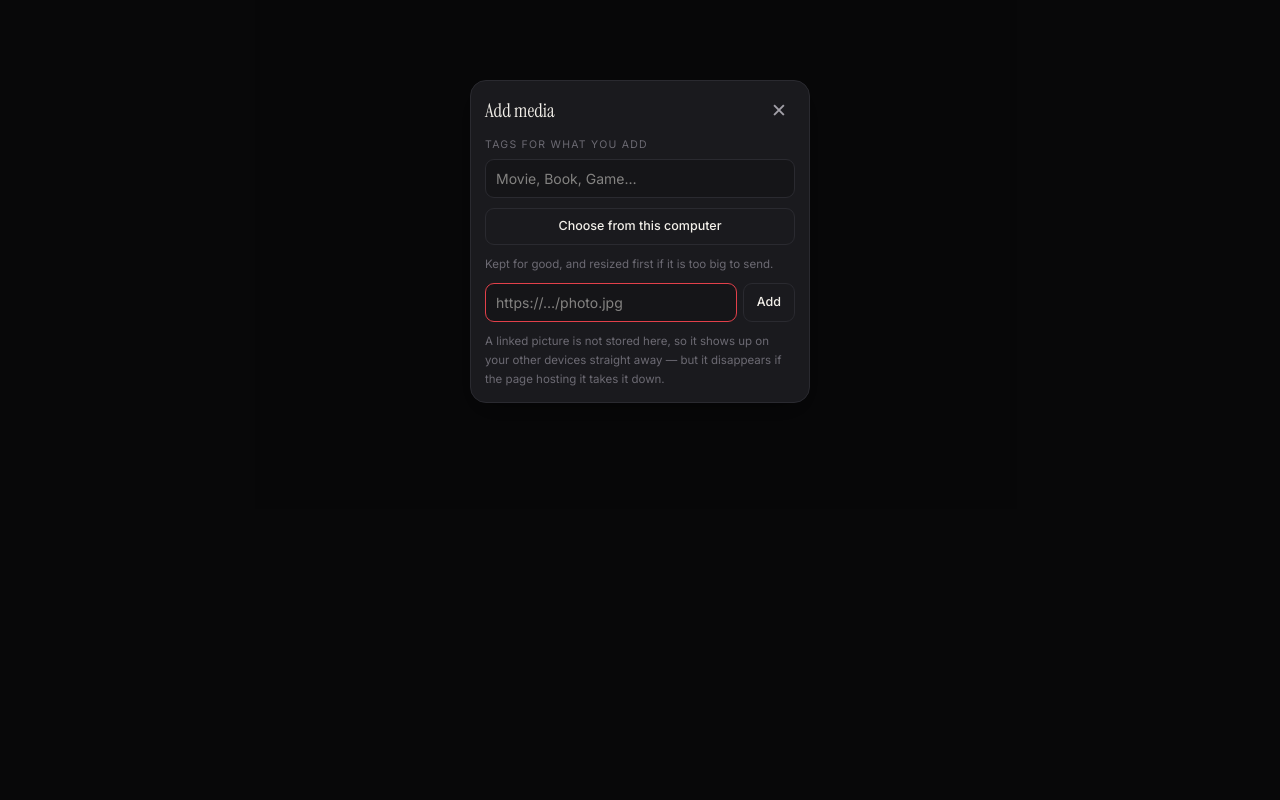
Test: tagging a batch before it is uploaded › keeps what you are still typing after the comma
Type "Photo,Holi" into the field with placeholder "Movie, Book, Game…".
click(640, 178); type("Photo,Holi")  # box top-left (485, 159), bottom-right (795, 198)
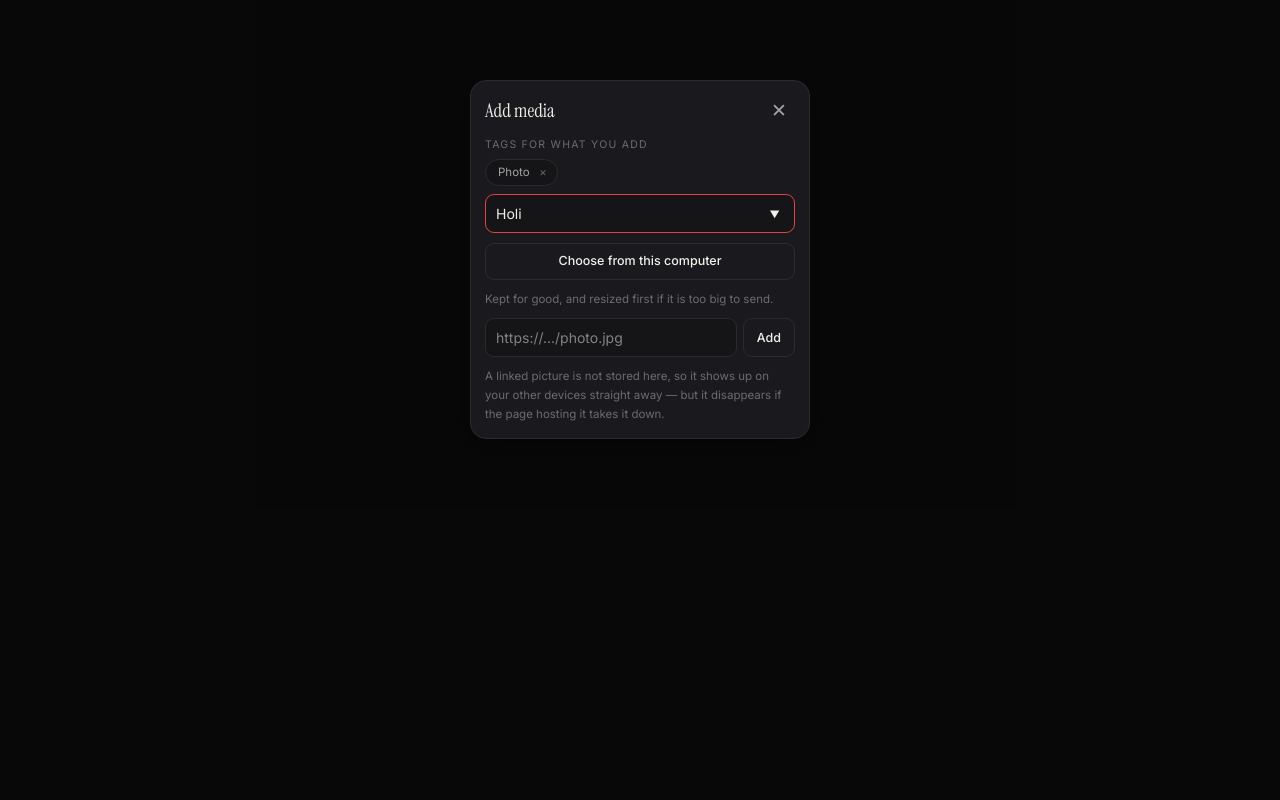
Now the button titled "Remove Photo" next to "Photo" is shown, box top-left (536, 165), bottom-right (551, 180)
Now the field with placeholder "Movie, Book, Game…" holds "Holi", box top-left (485, 194), bottom-right (795, 233)
